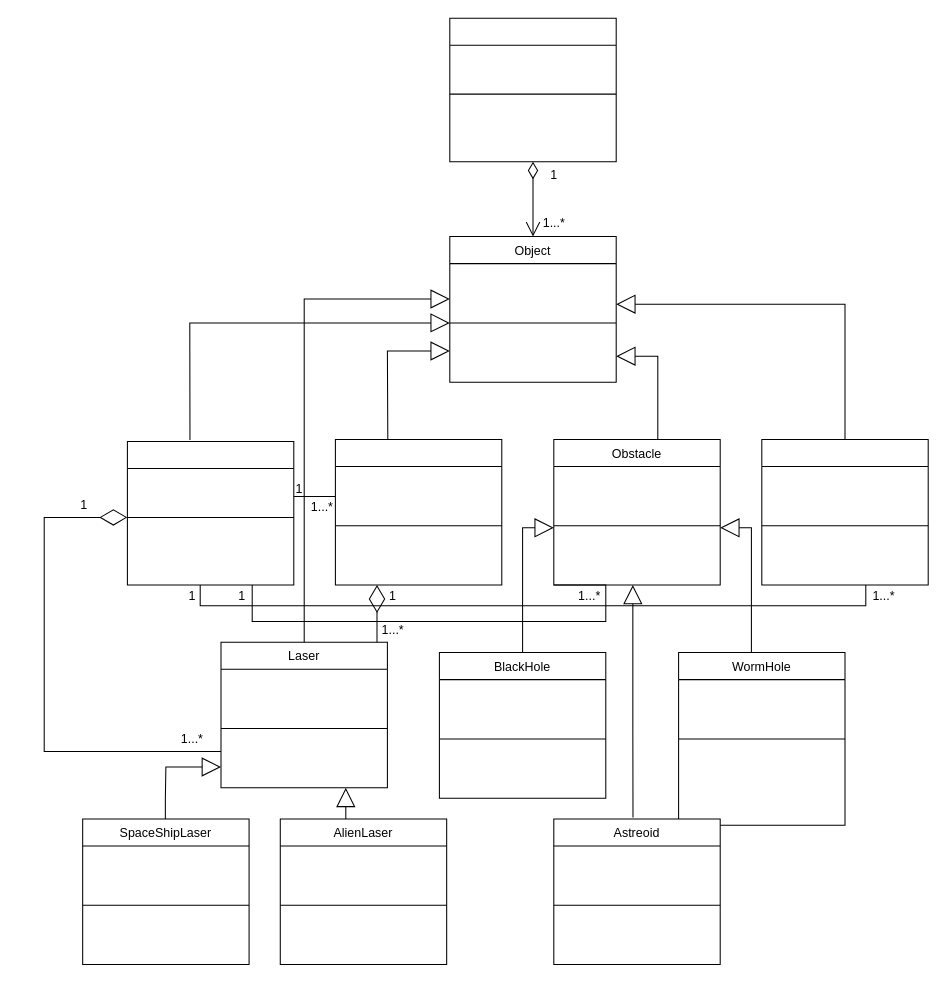
Some shapes in this 946 by 983 pixel diagram are drawn without their labels. Each missing label, with the box of its shape:
Alien: (334, 438, 502, 585)
Game: (449, 17, 616, 162)
MysteryBox: (761, 438, 928, 585)
SpaceShip: (126, 440, 294, 585)
